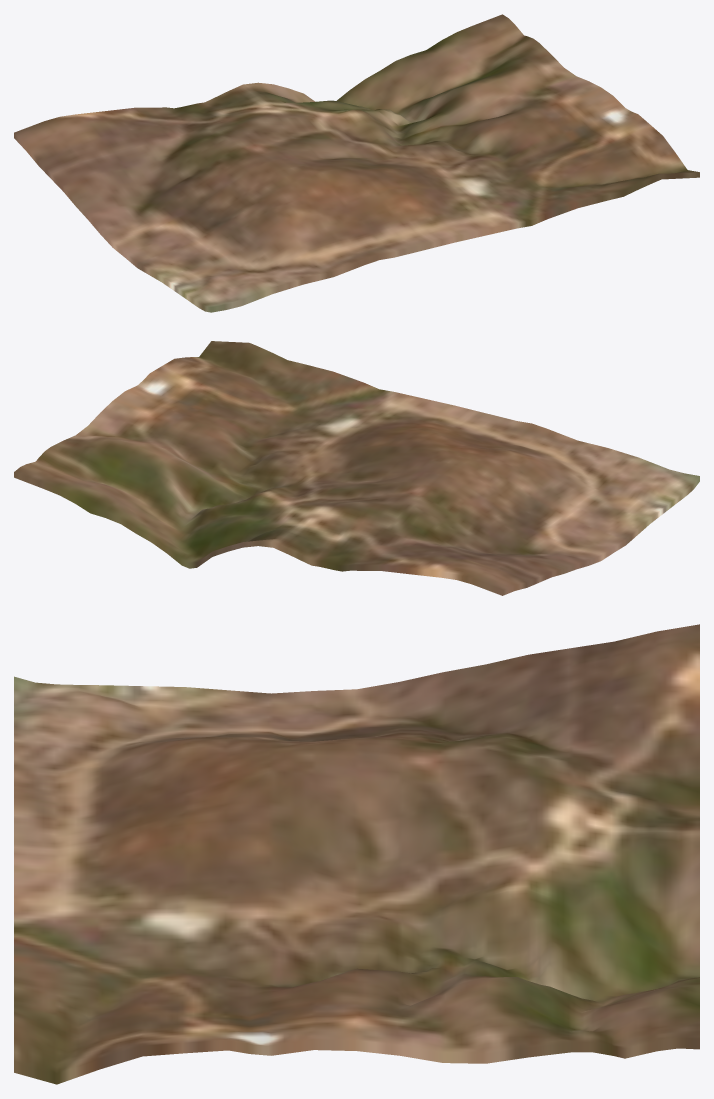
File: terrain_r1_c2_lod2.glb
3 views of the same model, one above another, from view 1: azimuth 30°, elevation 25°; view 2: azimuth 150°, elevation 25°; view 3: azimuth 270°, elevation 25° (orthographic). The views are drawn at different scales.
Visible parts, largest first — view 1: terrain_r1_c2_lod2; view 2: terrain_r1_c2_lod2; view 3: terrain_r1_c2_lod2.
Boxes of the visible parts, left/top/right/bottom form: terrain_r1_c2_lod2: left=14, top=14, right=699, bottom=312; terrain_r1_c2_lod2: left=14, top=341, right=699, bottom=595; terrain_r1_c2_lod2: left=14, top=624, right=699, bottom=1084.
Bounding box in the file's own units: 1125 × 133 × 787.
1 material, 1 textured.
